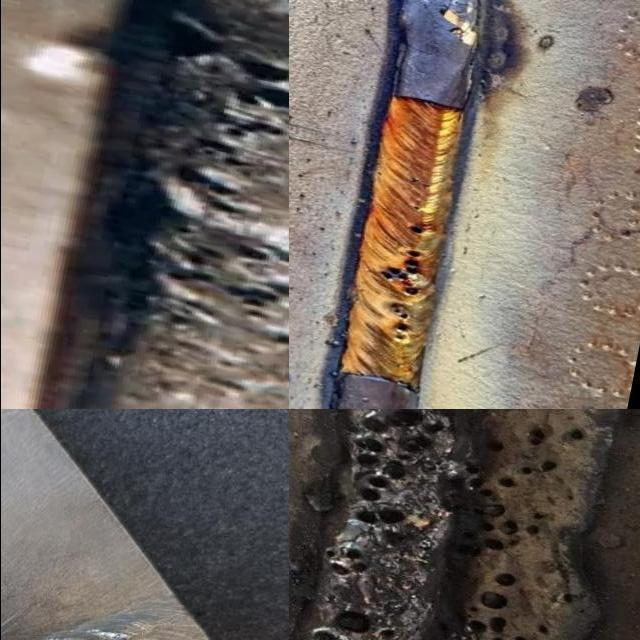defect: (147, 217, 288, 404), (176, 51, 288, 223), (450, 424, 588, 561), (342, 409, 449, 532), (453, 568, 548, 640), (301, 599, 407, 640), (371, 246, 426, 299), (311, 533, 368, 582), (543, 583, 588, 607), (387, 303, 411, 343), (409, 176, 432, 190), (403, 222, 426, 235), (111, 630, 132, 640), (411, 204, 425, 214)
